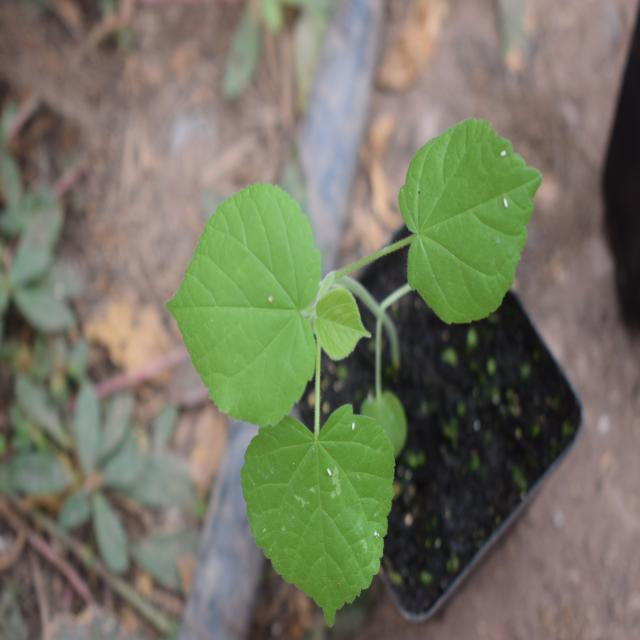abutilon theophrasti: (148, 111, 554, 577)
